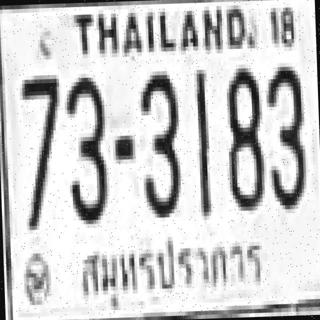N01: (192, 67, 210, 214), (192, 68, 210, 210)
N03: (137, 68, 179, 216), (64, 73, 105, 221), (265, 62, 304, 206)
N07: (19, 71, 61, 226), (19, 73, 60, 184)
N08: (223, 64, 263, 207)
P57: (68, 230, 266, 305)
